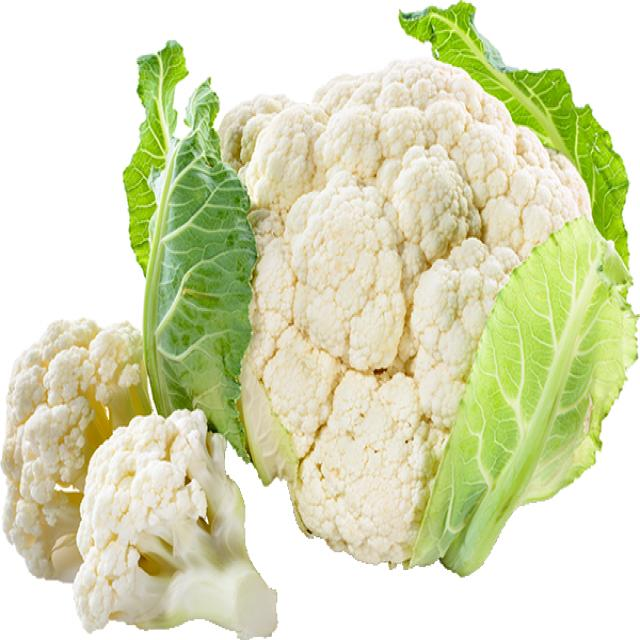cauliflower: (238, 55, 640, 543), (101, 441, 318, 640), (9, 338, 83, 556)
